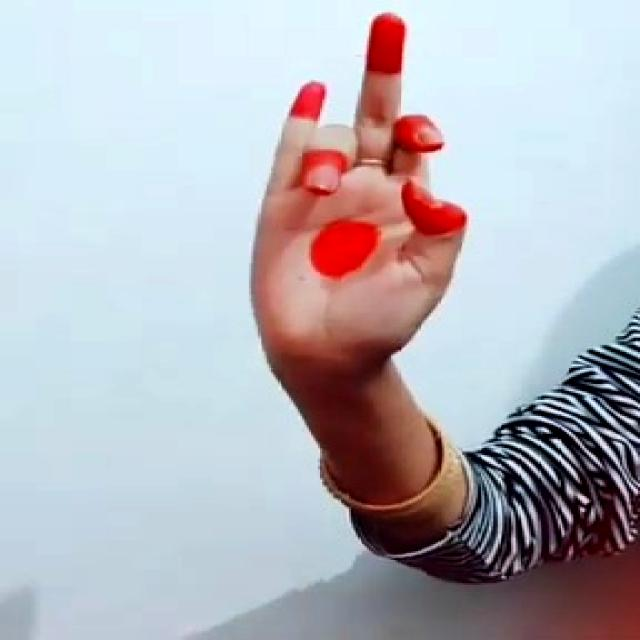Shukatunda: (216, 11, 503, 366)
bangle: (282, 404, 472, 525)
